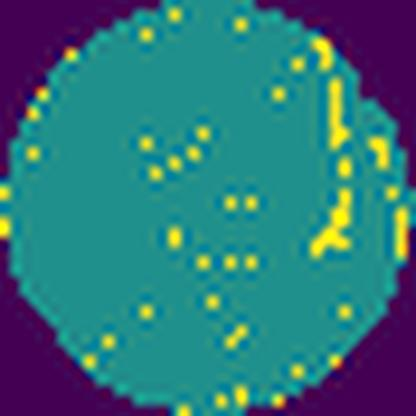Loc: (306, 187, 355, 256), (325, 76, 350, 149)
